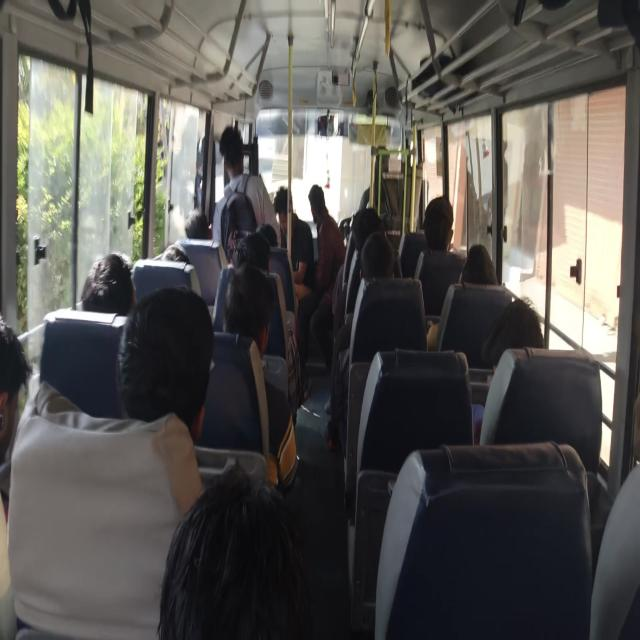person: (155, 460, 328, 640), (226, 271, 288, 374), (0, 323, 44, 432), (497, 318, 555, 394), (416, 188, 464, 255), (87, 255, 140, 311), (128, 304, 172, 365), (356, 239, 396, 304), (237, 231, 284, 285), (169, 232, 211, 287), (306, 181, 345, 237), (188, 185, 223, 246), (353, 198, 391, 252), (460, 236, 496, 289), (218, 124, 254, 176), (272, 178, 304, 225), (260, 219, 287, 252)
